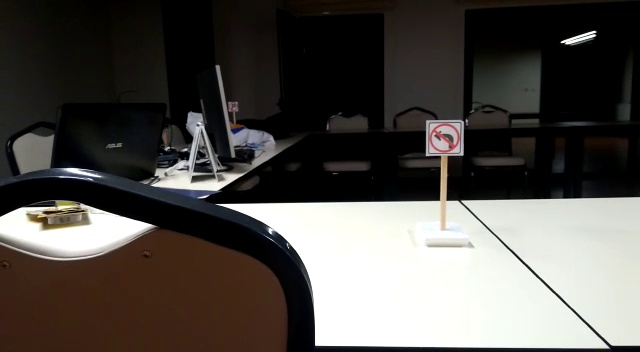sola_donulmez: (427, 118, 464, 156)
